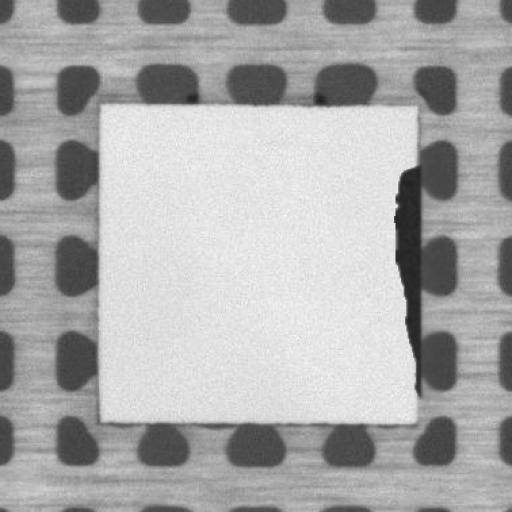DIE_BROKEN: (390, 157, 423, 401)
